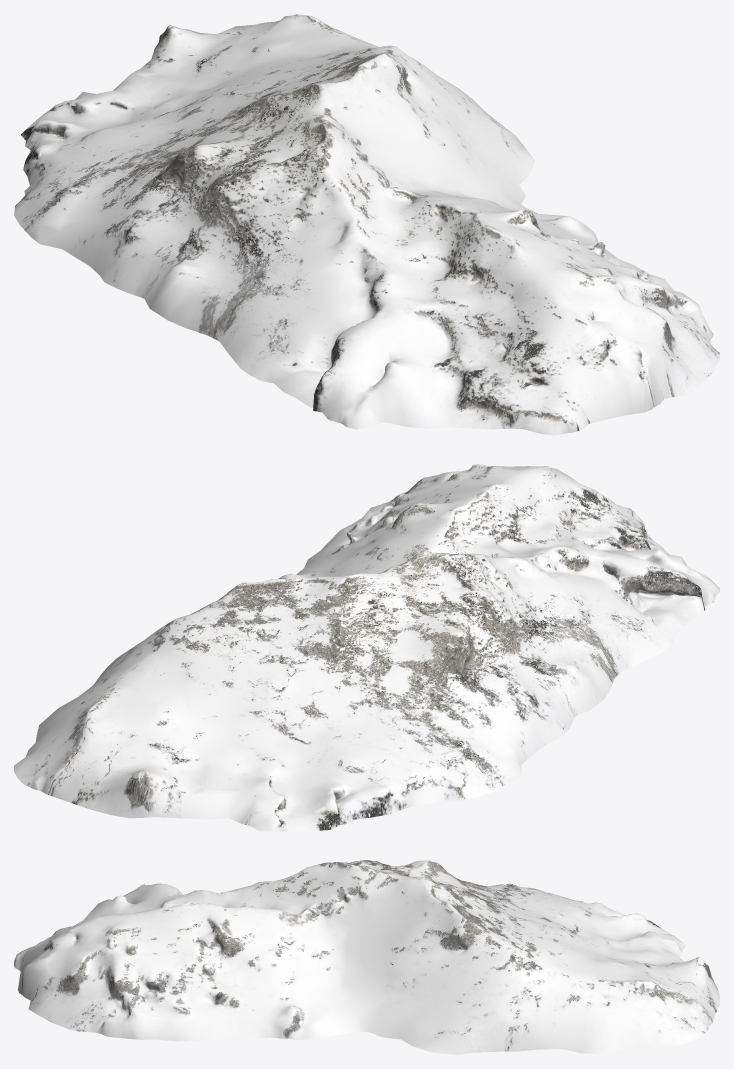
File: Snowdrift.FBX
3 renders of one model, top to bottom at view 1: azimuth 30°, elevation 25°; view 2: azimuth 150°, elevation 25°; view 3: azimuth 270°, elevation 25°, orthographic. The views are drawn at different scales.
Parts seen in each view (by area): view 1: 路面积雪; view 2: 路面积雪; view 3: 路面积雪.
Part boxes in pixels (left/top/right/bottom): 路面积雪: left=14, top=14, right=719, bottom=435; 路面积雪: left=14, top=464, right=719, bottom=831; 路面积雪: left=14, top=860, right=719, bottom=1054.
Bounding box in the file's own units: 1.1 × 0.3 × 2.
1 material, 1 textured.
